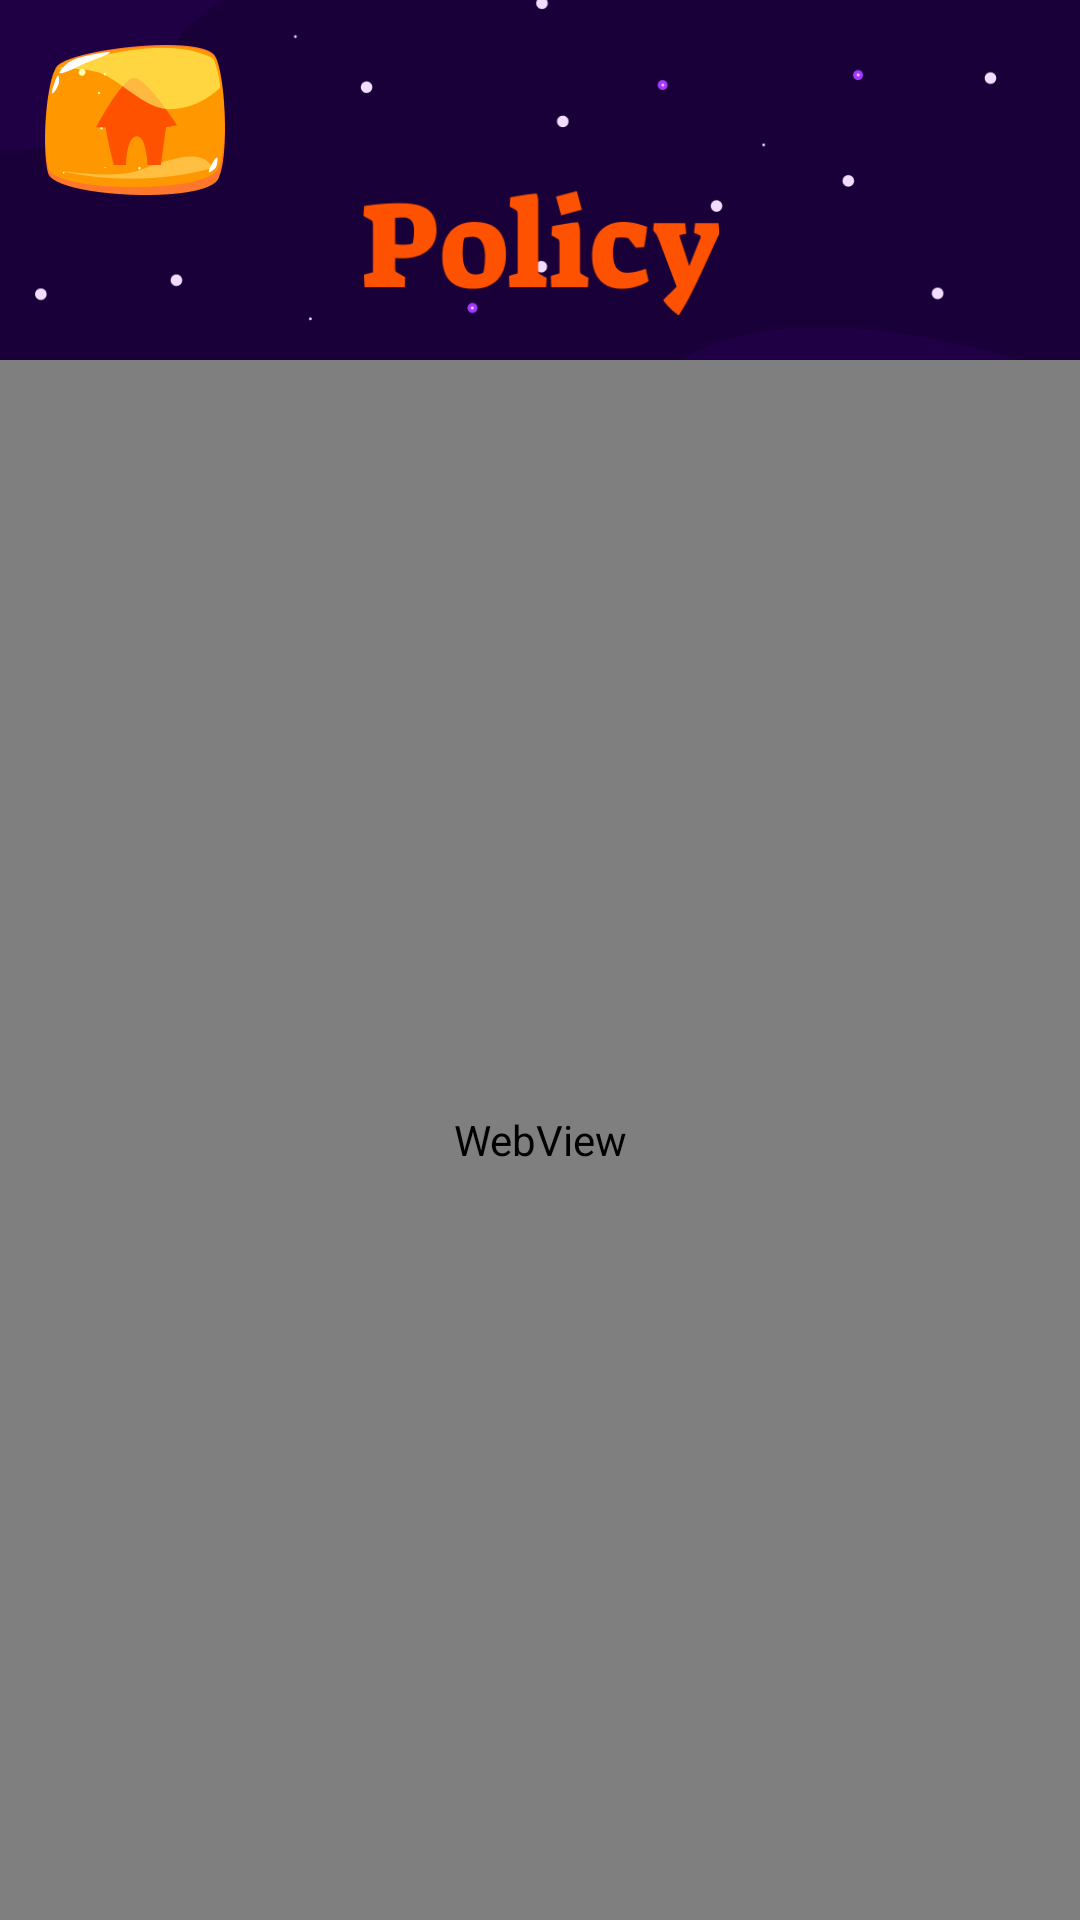

Named icons in this screenshot (1080w x 1920h) and their centers, (x,y):
home sel: (135,120)
